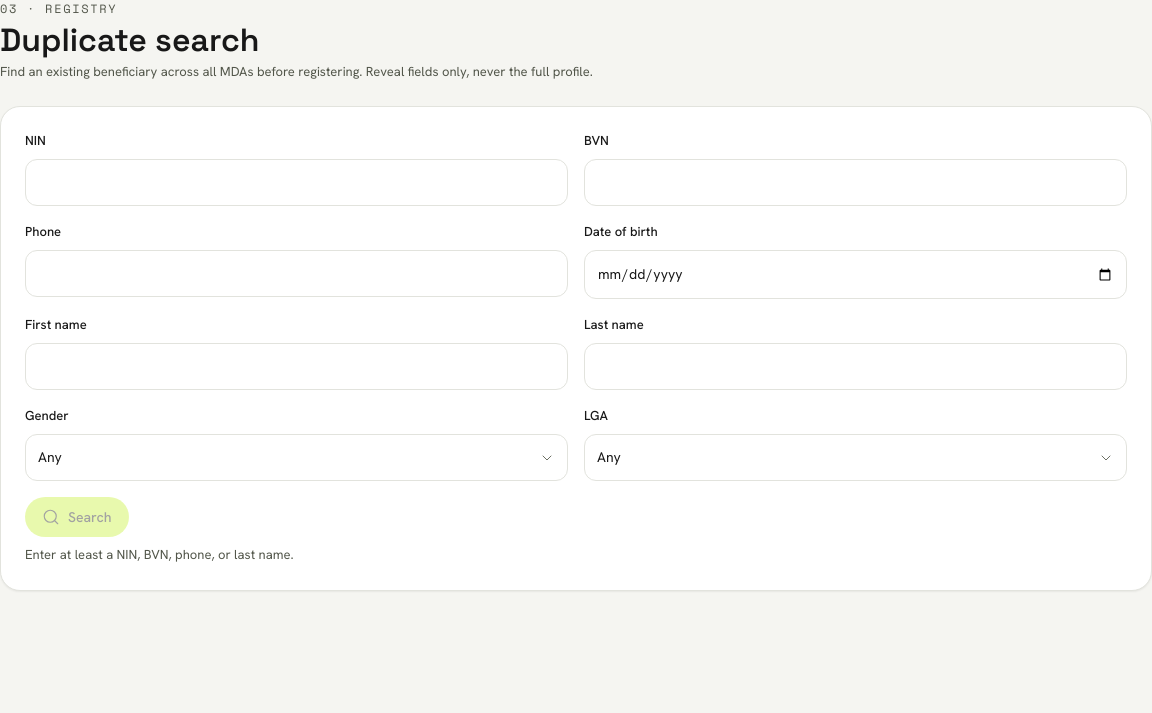
Test case: DuplicateSearchPage › searches and shows ranked reveal candidates
The width and height of the screenshot is (1152, 713).
Type "Bello" into the field labelled "Last name".
click(856, 367); type("Bello")  # box [584,343,1127,390]
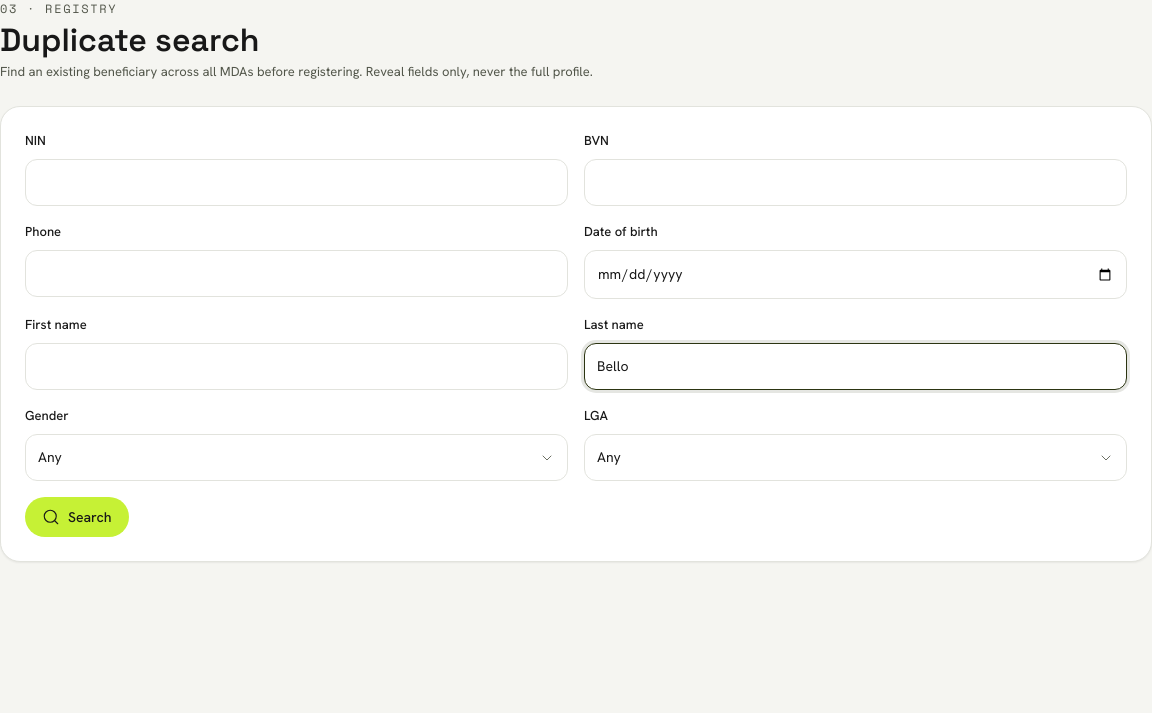
Click the button "Search".
click(77, 518)  # box [25,498,128,538]
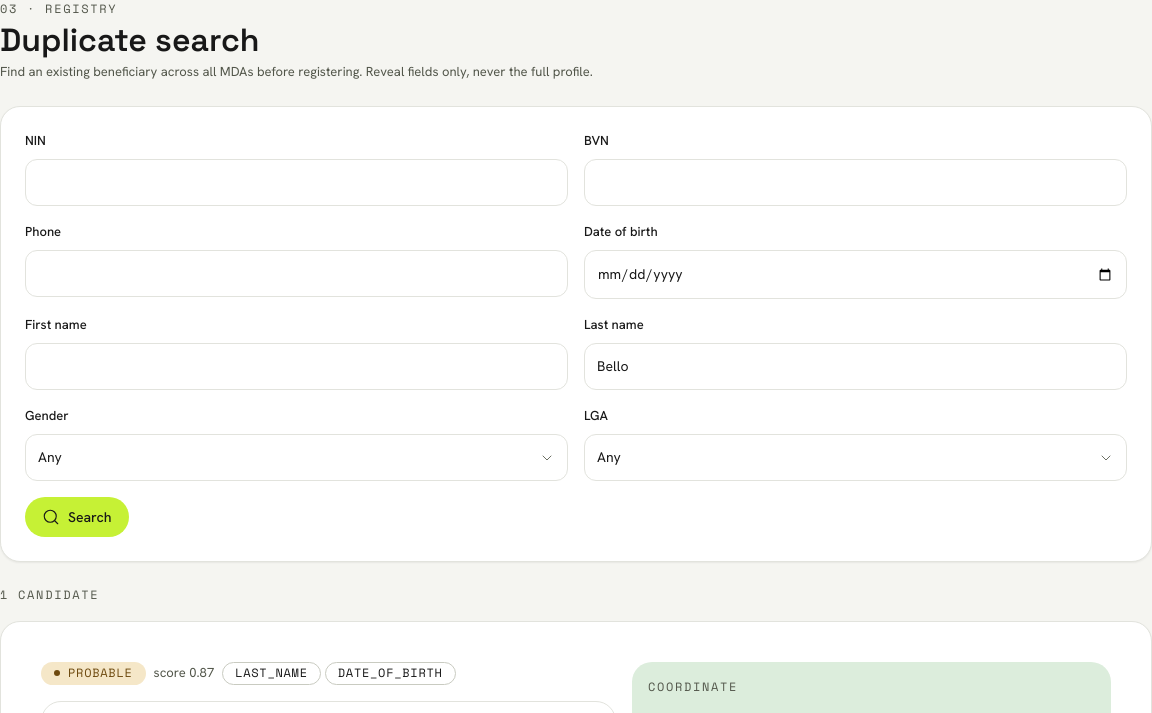
Now the text "Probable" is shown, box [41,662,146,685]
